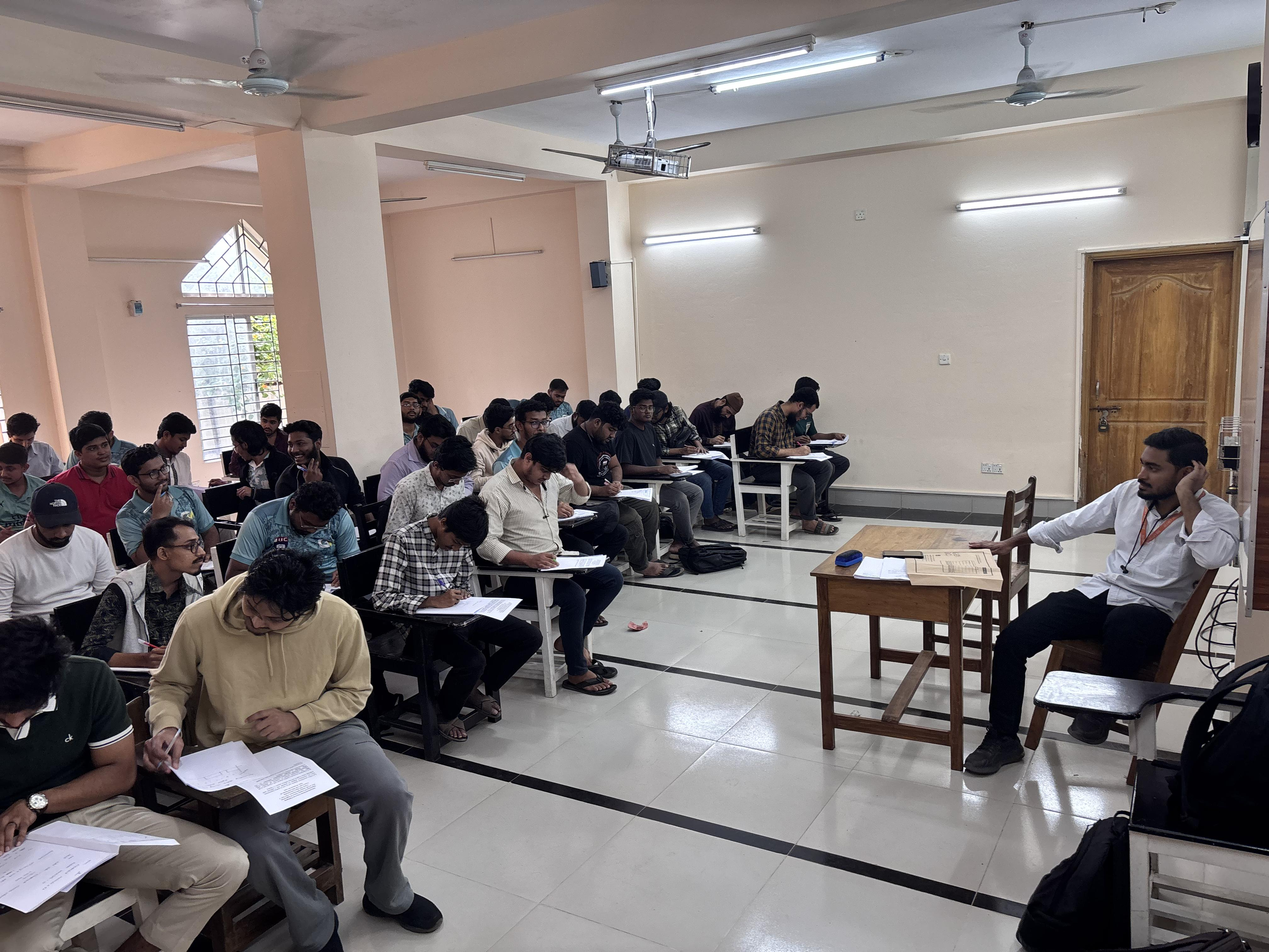copying: (220, 417, 279, 496), (6, 411, 54, 456)
hidden_communication: (155, 556, 346, 785), (254, 405, 289, 442)
invigilator: (985, 411, 1243, 754)
no_cheating: (0, 611, 178, 950), (389, 497, 526, 668), (496, 427, 600, 616), (95, 512, 218, 654), (9, 486, 120, 620), (251, 479, 364, 571), (119, 441, 194, 525), (404, 434, 484, 508), (760, 386, 832, 467), (61, 423, 125, 506), (692, 386, 754, 471), (580, 399, 626, 511), (152, 410, 205, 476), (620, 388, 667, 460), (474, 402, 516, 463), (509, 399, 553, 456), (410, 422, 449, 462), (392, 390, 422, 428), (543, 378, 574, 412)
side_talking: (279, 419, 341, 486), (0, 443, 38, 499)
